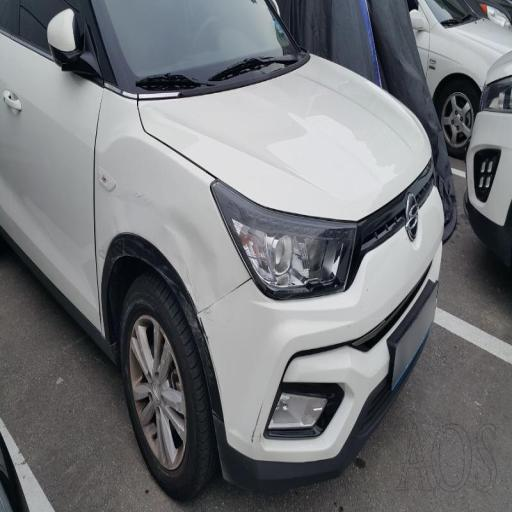scratch: (184, 242, 374, 469)
